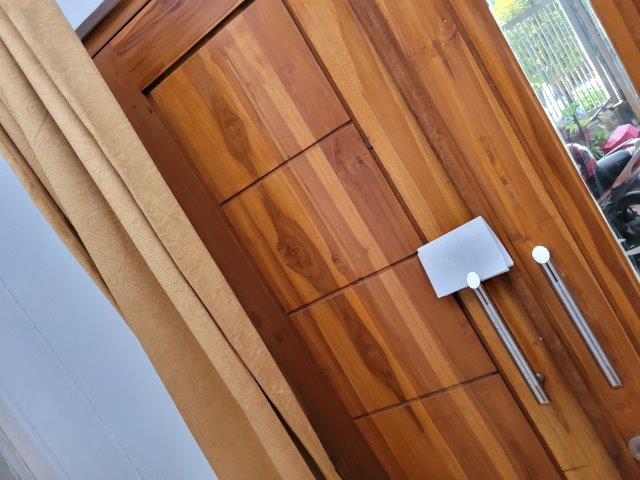kertas: (416, 216, 515, 299)
